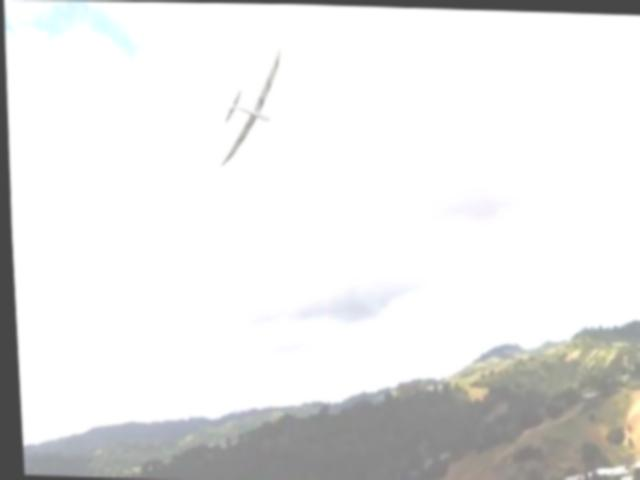iha: (210, 42, 292, 177)
